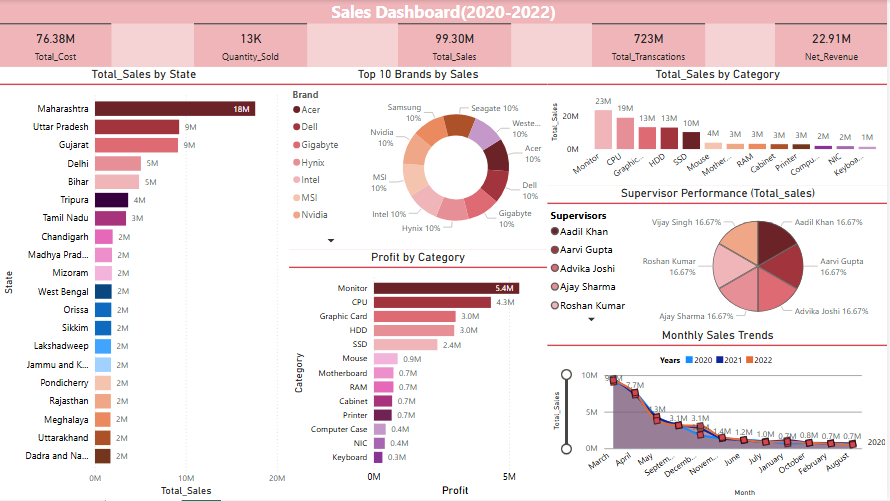

The dashboard page shown, as its layout file describes it:
{"tool":"powerbi","page":{"name":"Page 1","canvas":[1280,720],"ordinal":0},"visuals":[{"type":"lineChart","title":"Monthly Sales Trends","fields":{"Y":["monthly.Total_Sales"],"Category":["monthly.Month"],"Series":["monthly.Year"]},"box":[788.8,472.7,491.7,247.3],"z":0},{"type":"textbox","box":[0,0,1280.5,33.7],"z":1000},{"type":"clusteredBarChart","fields":{"Category":["state_sales.State"],"Y":["state_sales.Total_Sales"]},"box":[0,96.5,417.6,623.5],"z":2000},{"type":"clusteredColumnChart","title":"Total_Sales by Category","fields":{"Y":["cat_sales.Total_Sales"],"Category":["cat_sales.Category"]},"box":[788.8,96.6,491.7,171.2],"z":3000},{"type":"pieChart","title":"Supervisor Performance (Total_sales)","fields":{"Category":["sup_sales.Assigned Supervisor"],"Y":["sup_sales.Total_Sales"]},"box":[788.8,267.8,491.7,204.9],"z":4000},{"type":"barChart","fields":{"Category":["profit_cat.Category"],"Y":["profit_cat.Profit"]},"box":[417.1,360,371.7,360],"z":5000},{"type":"donutChart","title":"Top 10 Brands by Sales","fields":{"Category":["brand_sales.Brand"],"Y":["brand_sales.Total_Sales"]},"box":[417.1,96.6,371.7,263.4],"z":5001},{"type":"card","fields":{"Values":["sales_df.Net_Revenue"]},"box":[1118,33.7,162.4,62.9],"z":5002},{"type":"card","fields":{"Values":["sales_df.Total_Cost"]},"box":[0,33.7,162.4,62.9],"z":5003},{"type":"card","fields":{"Values":["sales_df.Total_Sales"]},"box":[574.6,33.1,162.7,63.4],"z":5004},{"type":"card","fields":{"Values":["sales_df.Quantity"]},"box":[280.8,33.1,162.7,63.4],"z":5005},{"type":"card","fields":{"Values":["sales_df.Order_Number"]},"box":[853.9,33.1,162.7,63.4],"z":5006}]}

Visuals, with their boxes in screenshot pixels (x1, y1, x2, y2), scaled from the page's 1280x720 canvas onto the 890x501 screenshot:
"Monthly Sales Trends" lineChart: [left=548, top=329, right=889, bottom=500]
textbox: [left=0, top=0, right=889, bottom=23]
clusteredBarChart - state_sales.State x state_sales.Total_Sales: [left=0, top=67, right=290, bottom=500]
"Total_Sales by Category" clusteredColumnChart: [left=548, top=67, right=889, bottom=186]
"Supervisor Performance (Total_sales)" pieChart: [left=548, top=186, right=889, bottom=329]
barChart - profit_cat.Category x profit_cat.Profit: [left=290, top=250, right=548, bottom=500]
"Top 10 Brands by Sales" donutChart: [left=290, top=67, right=548, bottom=250]
card - sales_df.Net_Revenue: [left=777, top=23, right=889, bottom=67]
card - sales_df.Total_Cost: [left=0, top=23, right=113, bottom=67]
card - sales_df.Total_Sales: [left=400, top=23, right=513, bottom=67]
card - sales_df.Quantity: [left=195, top=23, right=308, bottom=67]
card - sales_df.Order_Number: [left=594, top=23, right=707, bottom=67]
